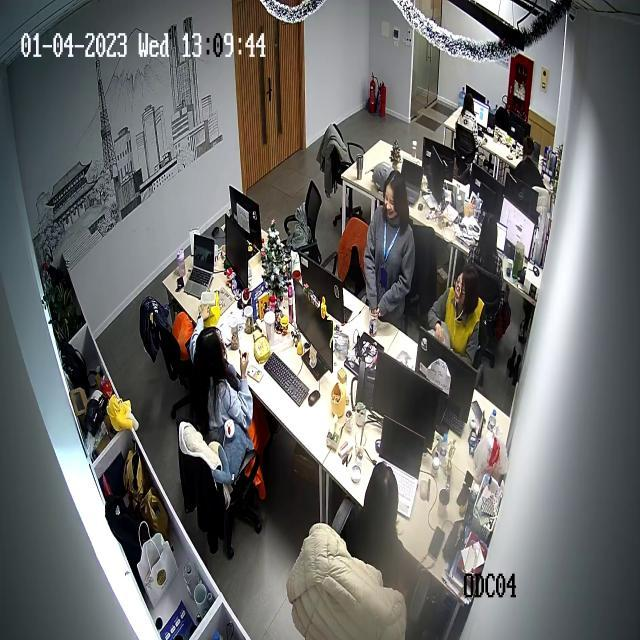person: (189, 323, 258, 493), (364, 170, 416, 334), (346, 462, 403, 582), (427, 264, 485, 362), (467, 213, 503, 273), (512, 136, 544, 189), (457, 91, 478, 136)
